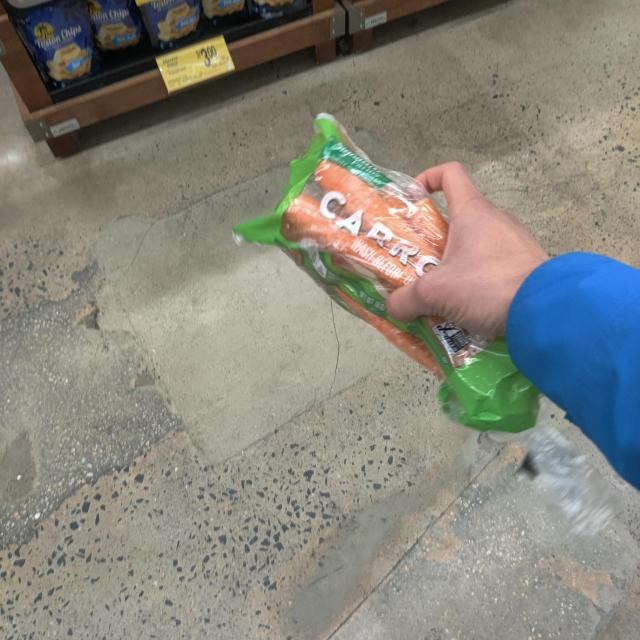Carrots: (259, 116, 544, 442)
